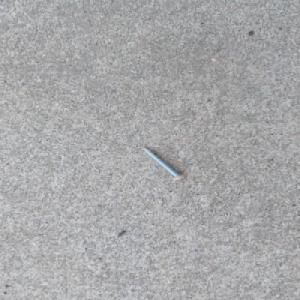Screw: (140, 145, 187, 181)
